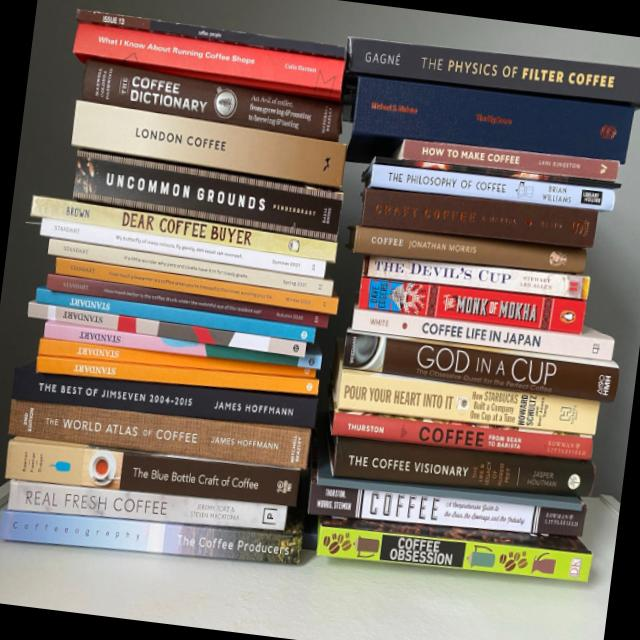book: (346, 74, 634, 194), (327, 349, 599, 459), (309, 442, 583, 540), (70, 150, 344, 240), (5, 434, 300, 516), (69, 101, 347, 188), (80, 58, 345, 144), (29, 193, 337, 265), (71, 21, 345, 100), (11, 363, 318, 432), (344, 36, 640, 107), (7, 400, 310, 469), (342, 328, 620, 402), (39, 216, 326, 280), (315, 517, 593, 582), (45, 271, 329, 332), (0, 511, 302, 565), (329, 438, 596, 499), (47, 239, 334, 295), (309, 480, 586, 538), (7, 480, 287, 537), (53, 258, 338, 314), (35, 287, 316, 342), (27, 302, 306, 357), (350, 305, 614, 361), (360, 188, 598, 249), (74, 7, 345, 60), (43, 321, 323, 370), (357, 275, 585, 334), (330, 411, 593, 462), (362, 161, 616, 213), (38, 340, 315, 384), (347, 227, 587, 275), (36, 356, 319, 396), (362, 255, 590, 300), (395, 138, 619, 183)
